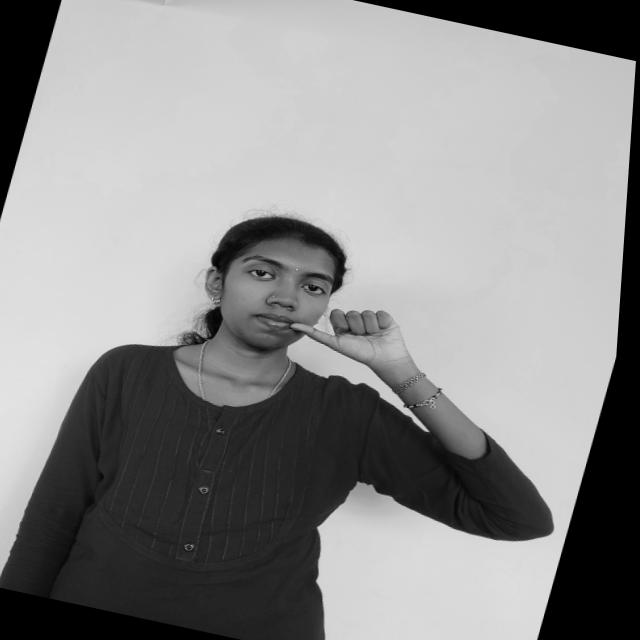Drink: (277, 288, 439, 384)
